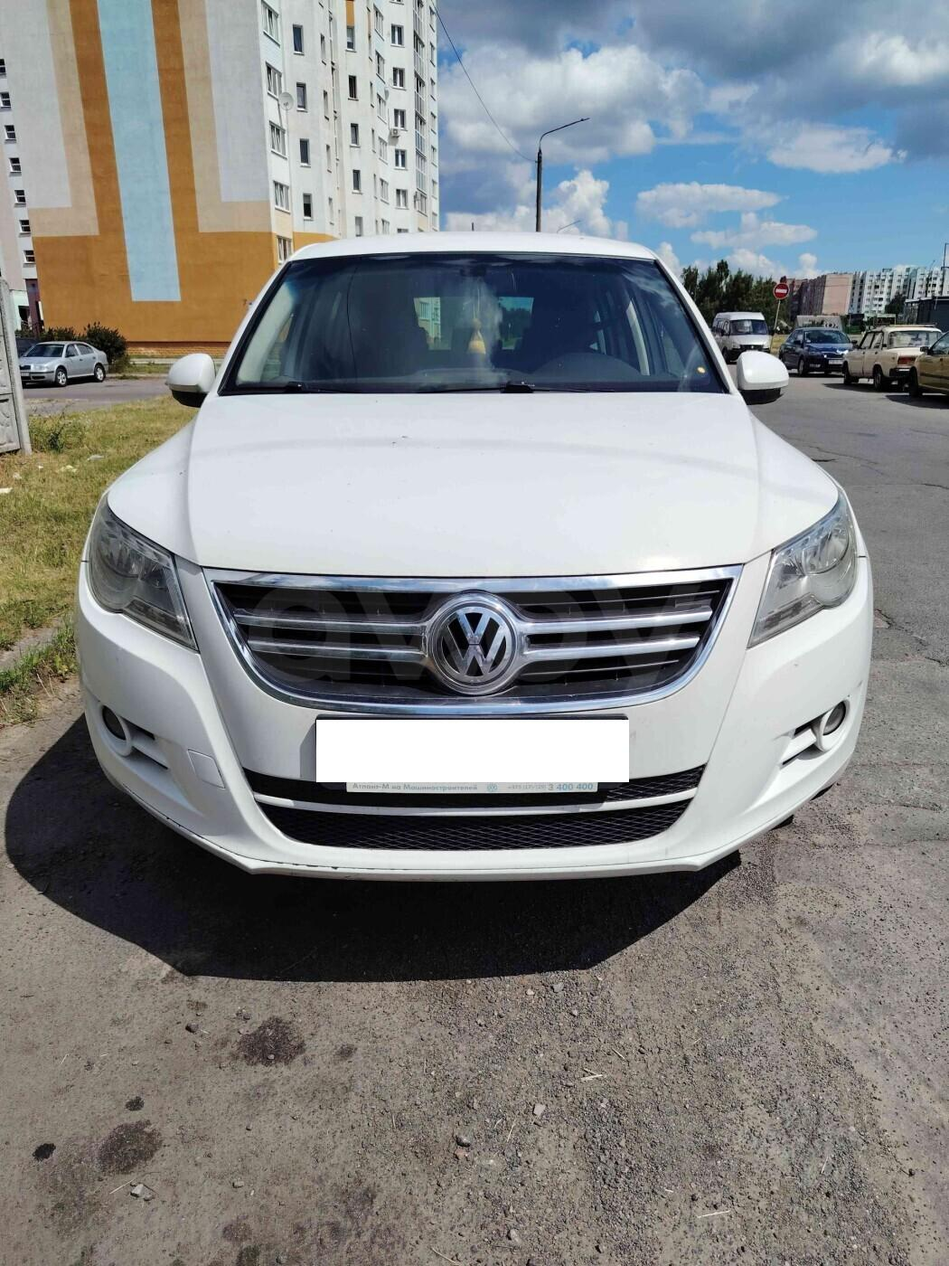Tiguan_2007-2011: (65, 222, 882, 899)
